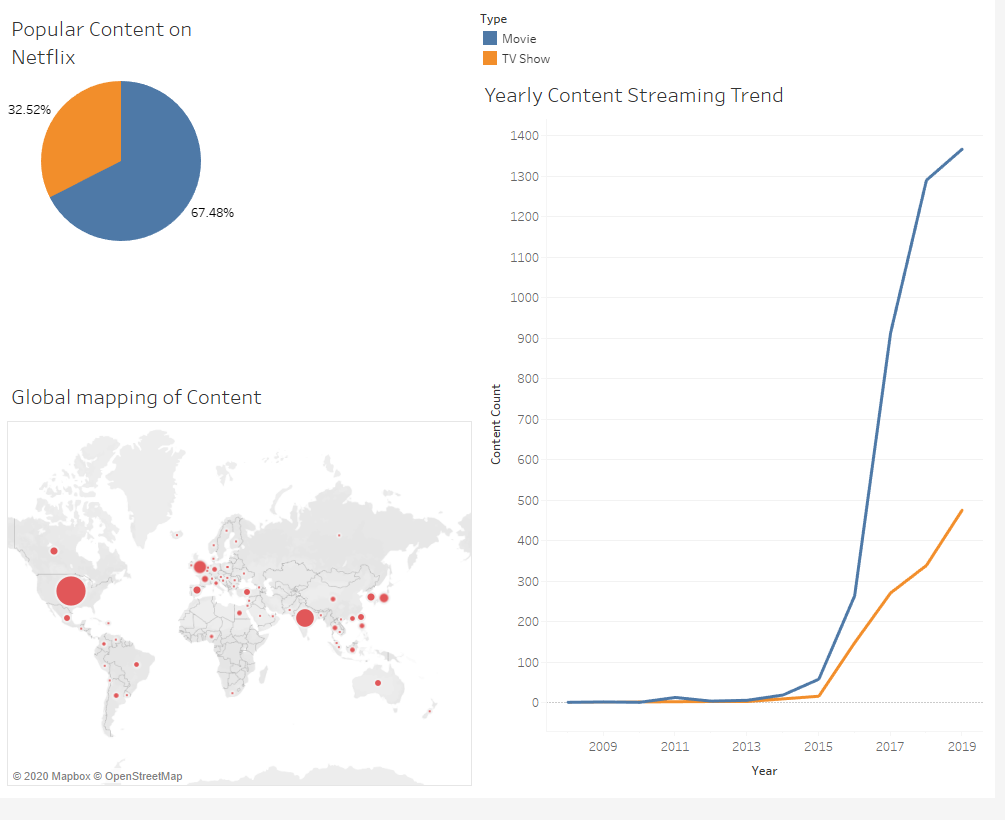

This screenshot's page, from the dashboard's own definition file:
{"tool":"tableau","page":{"name":"Dashboard 1","canvas":[1000,800],"ordinal":0},"visuals":[{"type":"worksheet","title":"Sheet 1","mark":"Pie","box":[8,8,473,368]},{"type":"legend","title":"Sheet 1","param":"[federated.1rcdr6i1fy4jxg1901l3j1e7jz3h].[none:type:nk]","box":[481,8,511,66]},{"type":"worksheet","title":"Sheet 3","mark":"Automatic","rows":["Number of Records"],"cols":["date_added"],"box":[481,74,511,718]},{"type":"worksheet","title":"Sheet 2","mark":"Automatic","box":[8,376,473,416]}]}

Visuals, with their boxes in screenshot pixels (x1, y1, x2, y2), scaled from the page's 1000x800 canvas onto the 1005x820 screenshot:
"Sheet 1" worksheet (Pie marks): {"left": 8, "top": 8, "right": 483, "bottom": 385}
"Sheet 1" legend: {"left": 483, "top": 8, "right": 997, "bottom": 76}
"Sheet 3" worksheet: {"left": 483, "top": 76, "right": 997, "bottom": 812}
"Sheet 2" worksheet: {"left": 8, "top": 385, "right": 483, "bottom": 812}
